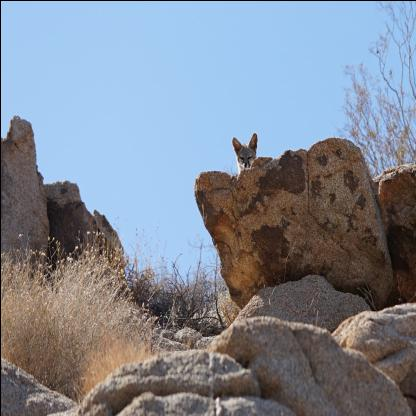zorro: (228, 128, 262, 176)
